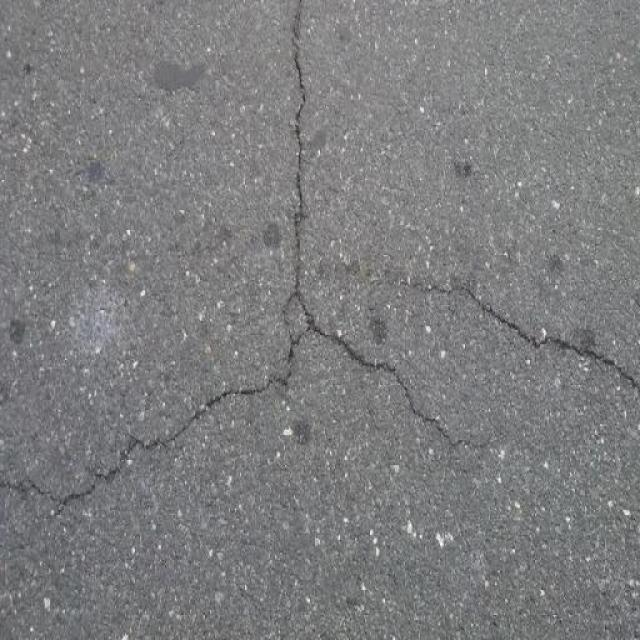Crack: (0, 320, 440, 524), (412, 265, 640, 420), (275, 0, 316, 342)
